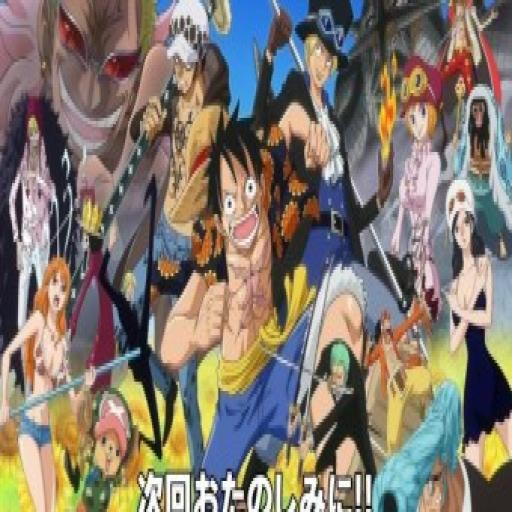Luffy: (204, 105, 274, 258)
Nami: (34, 258, 78, 342)
NicoRobin: (446, 171, 479, 270)
Usopp: (363, 307, 431, 454)
Zoro: (325, 335, 358, 406)
sanji: (96, 214, 162, 392)
